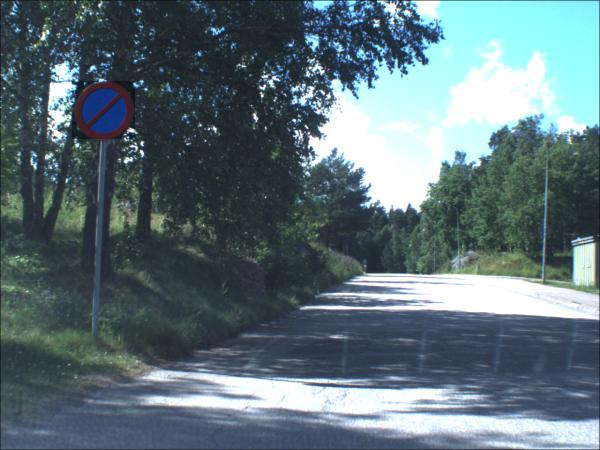NO_PARKING: (72, 82, 136, 141)
